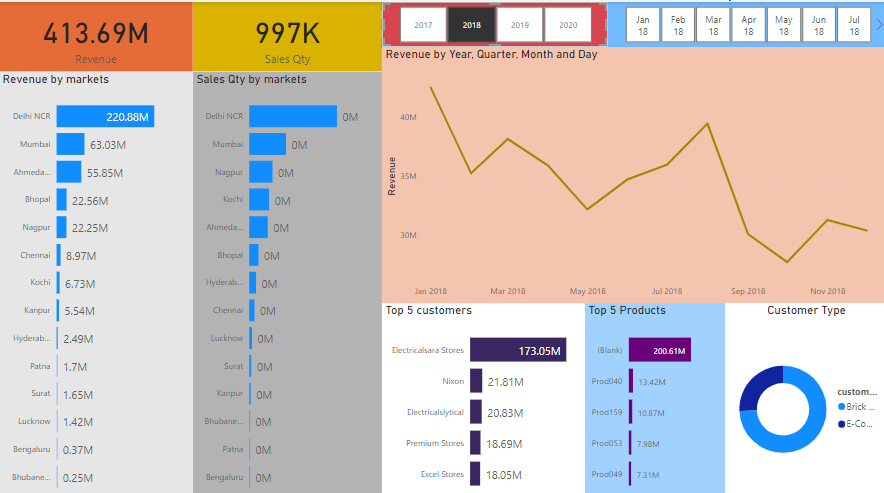

This screenshot's page, from the dashboard's own definition file:
{"tool":"powerbi","page":{"name":"Sales_insight","canvas":[1280,720],"ordinal":0},"visuals":[{"type":"card","fields":{"Values":["BaseMeasures.Revenue"]},"box":[0,0,279.3,100.4],"z":0},{"type":"card","fields":{"Values":["BaseMeasures.Sales Qty"]},"box":[279.3,0,272,100.4],"z":1000},{"type":"barChart","title":"Revenue by markets","fields":{"Y":["BaseMeasures.Revenue"],"Category":["sales markets.markets_name"]},"box":[0,100.4,279.3,619.6],"z":2000},{"type":"barChart","title":"Sales Qty by markets","fields":{"Y":["BaseMeasures.Sales Qty"],"Category":["sales markets.markets_name"]},"box":[279.3,100.4,272,619.6],"z":3000},{"type":"slicer","fields":{"Values":["sales date.year"]},"box":[551.3,0,325.8,65.5],"z":4000},{"type":"slicer","fields":{"Values":["sales date.cy_date"]},"box":[877.1,0,402.9,65.5],"z":5000},{"type":"barChart","title":"Top 5 customers","fields":{"Y":["BaseMeasures.Revenue"],"Category":["sales customers.custmer_name"]},"box":[551.5,433.4,292.3,286.6],"z":6000},{"type":"barChart","title":"Top 5 Products","fields":{"Y":["BaseMeasures.Revenue"],"Category":["sales products.product_code"]},"box":[843.8,433.4,201.6,286.6],"z":7000},{"type":"lineChart","fields":{"Y":["BaseMeasures.Revenue"],"Category":["sales date.cy_date.Variation.Date Hierarchy.Year","sales date.cy_date.Variation.Date Hierarchy.Quarter","sales date.cy_date.Variation.Date Hierarchy.Month","sales date.cy_date.Variation.Date Hierarchy.Day"]},"box":[551.5,64.8,728.6,368.6],"z":8000},{"type":"donutChart","title":"Customer Type","fields":{"Category":["sales customers.customer_type"],"Y":["BaseMeasures.Revenue"]},"box":[1045.4,433.4,234.7,286.6],"z":8001}]}

Visuals, with their boxes in screenshot pixels (x1, y1, x2, y2), scaled from the page's 1280x720 canvas onto the 884x493 screenshot:
card - BaseMeasures.Revenue: region(0, 0, 193, 69)
card - BaseMeasures.Sales Qty: region(193, 0, 381, 69)
"Revenue by markets" barChart: region(0, 69, 193, 492)
"Sales Qty by markets" barChart: region(193, 69, 381, 492)
slicer - sales date.year: region(381, 0, 606, 45)
slicer - sales date.cy_date: region(606, 0, 883, 45)
"Top 5 customers" barChart: region(381, 297, 583, 492)
"Top 5 Products" barChart: region(583, 297, 722, 492)
lineChart - BaseMeasures.Revenue x sales date.cy_date.Variation.Date Hierarchy.Year: region(381, 44, 883, 297)
"Customer Type" donutChart: region(722, 297, 883, 492)
